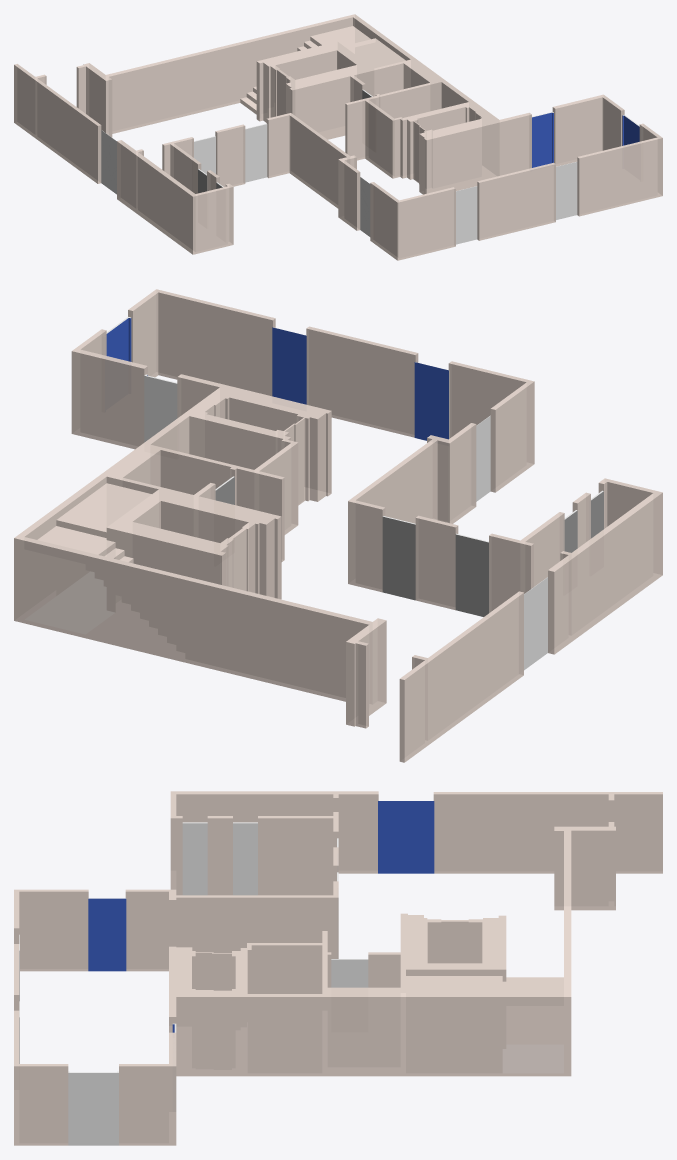
File: basement.dae
The picture shows the model from 3 angles, top to bottom: view 1: azimuth 30°, elevation 25°; view 2: azimuth 150°, elevation 25°; view 3: azimuth 270°, elevation 25°; orthographic projection. The views are drawn at different scales.
Parts seen in each view (by area): view 1: A30_P100.DWG (×13), SketchUp (×8); view 2: A30_P100.DWG (×14), SketchUp (×8); view 3: A30_P100.DWG (×12), SketchUp (×6).
Boxes of the visible parts, left/top/right/bottom form: A30_P100.DWG (×13): left=14, top=14, right=662, bottom=260; SketchUp (×8): left=101, top=112, right=639, bottom=244; A30_P100.DWG (×14): left=14, top=289, right=662, bottom=762; SketchUp (×8): left=106, top=318, right=547, bottom=670; A30_P100.DWG (×12): left=14, top=791, right=662, bottom=1145; SketchUp (×6): left=68, top=801, right=434, bottom=1145.
Bounding box in the file's own units: 703 × 700 × 94.49.
Materials: 4 (2 with a texture image).
